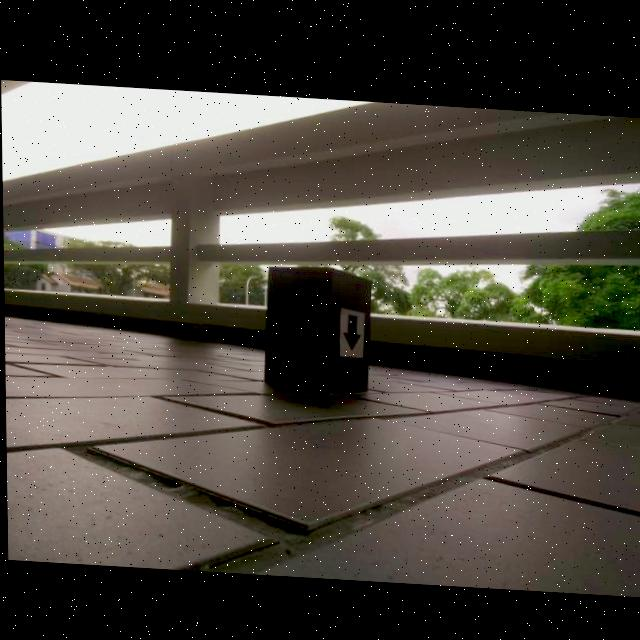DOWN: (341, 310, 361, 349)
